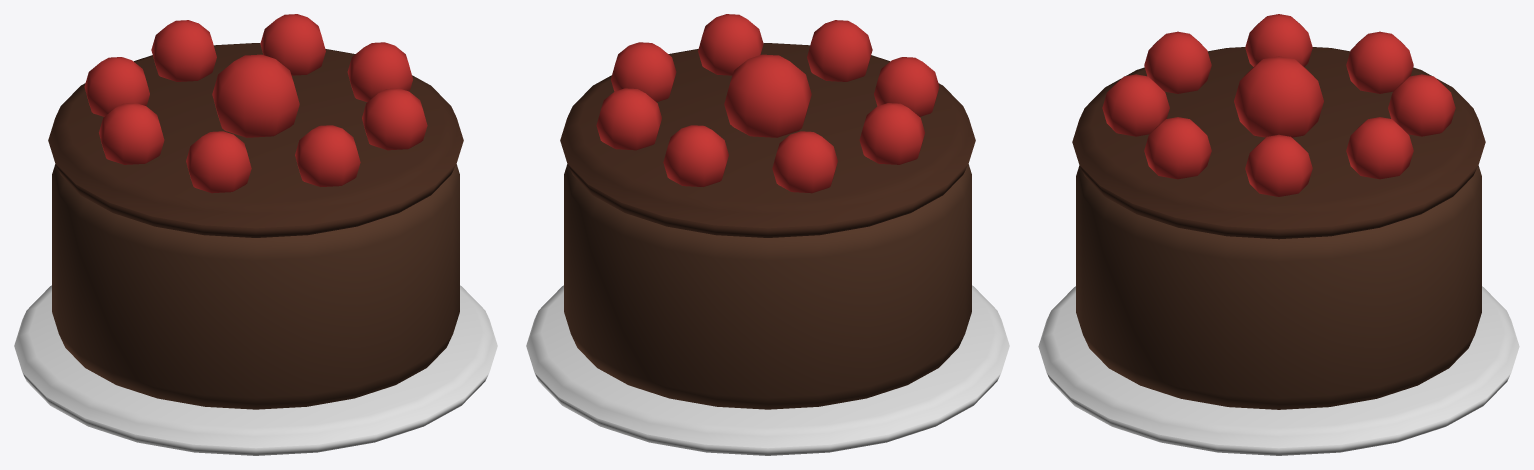
File: food_strawberry_cake.glb
3 views of the same model, side by side, from view 1: azimuth 30°, elevation 25°; view 2: azimuth 150°, elevation 25°; view 3: azimuth 270°, elevation 25° (orthographic).
Visible parts, largest first — view 1: food_strawberry_cake; view 2: food_strawberry_cake; view 3: food_strawberry_cake.
Boxes of the visible parts, left/top/right/bottom form: food_strawberry_cake: left=14, top=14, right=497, bottom=455; food_strawberry_cake: left=526, top=14, right=1009, bottom=455; food_strawberry_cake: left=1038, top=14, right=1519, bottom=455.
Bounding box in the file's own units: 0.64 × 0.44 × 0.64.
